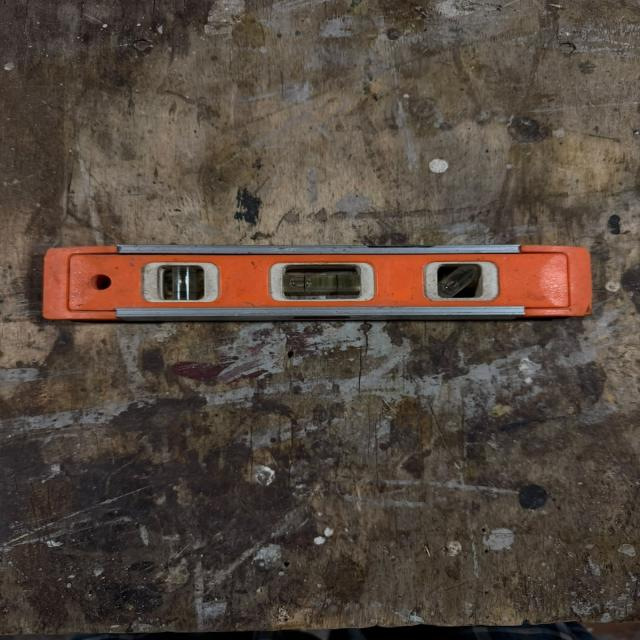Nivel: (37, 210, 608, 370)
